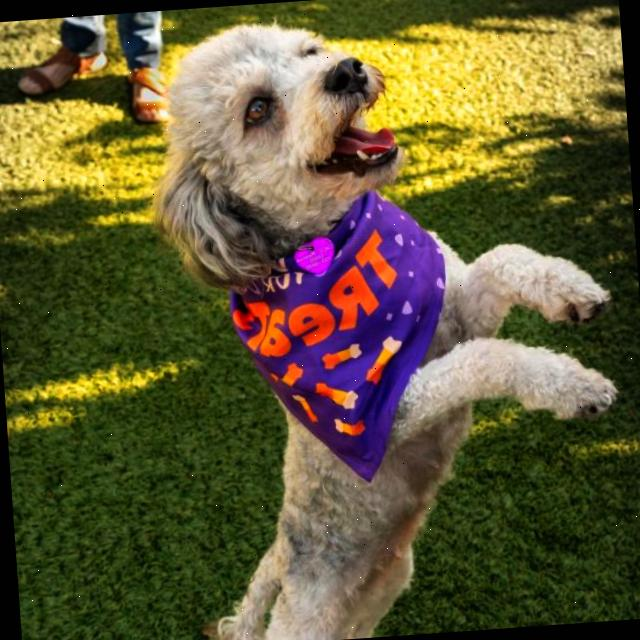Poodle_dog: (130, 6, 424, 316)
